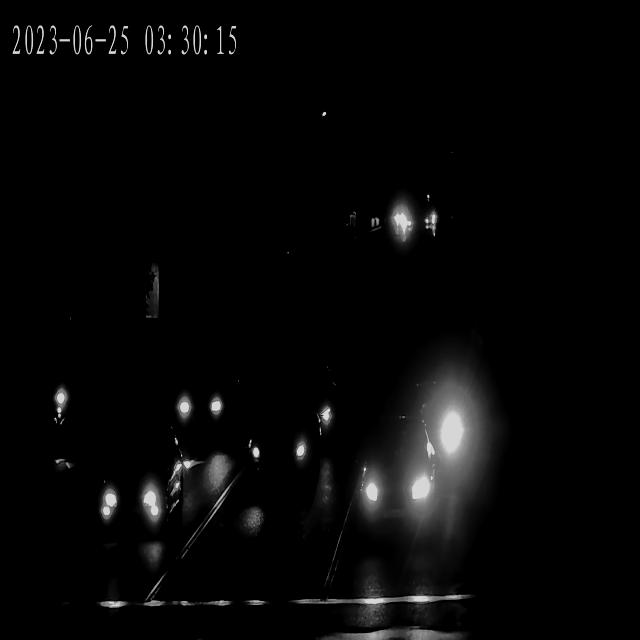Car: (82, 429, 183, 543), (390, 357, 469, 488), (342, 437, 440, 529), (236, 410, 320, 491), (172, 365, 239, 434), (385, 209, 412, 234), (418, 212, 439, 230)
Motorcycle: (51, 364, 85, 474)
